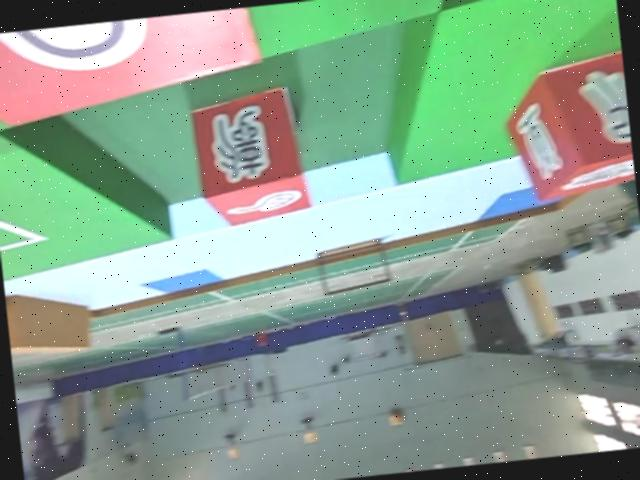R2 Fake: (0, 5, 266, 129), (501, 47, 637, 204), (189, 87, 314, 230)
